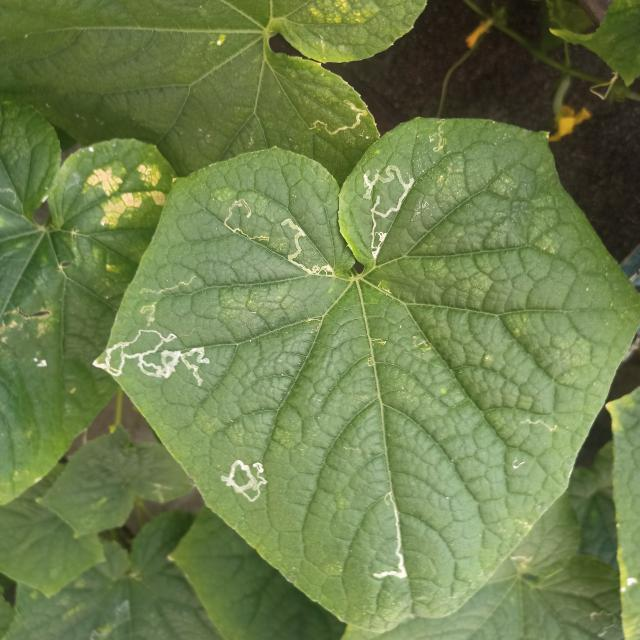disease_cucumber: (88, 162, 169, 227)
